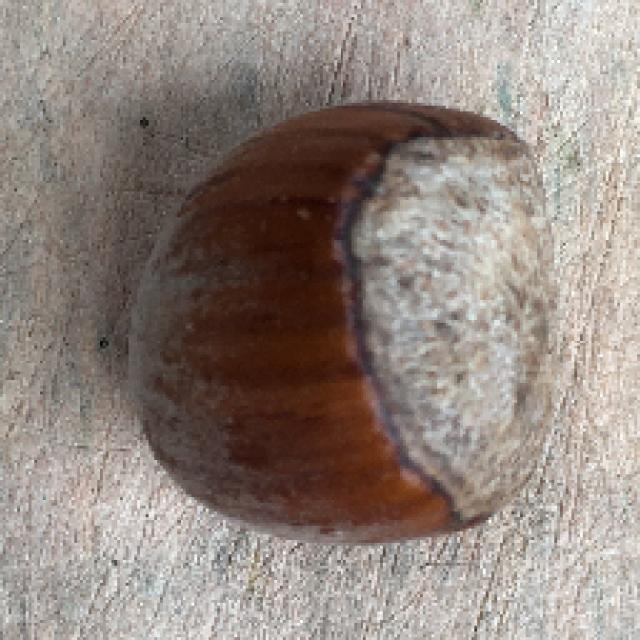qualityHazelnut: (125, 97, 568, 545)
